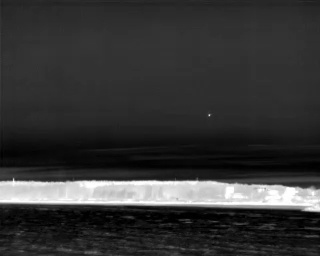HELICOPTER: (205, 111, 214, 121)
